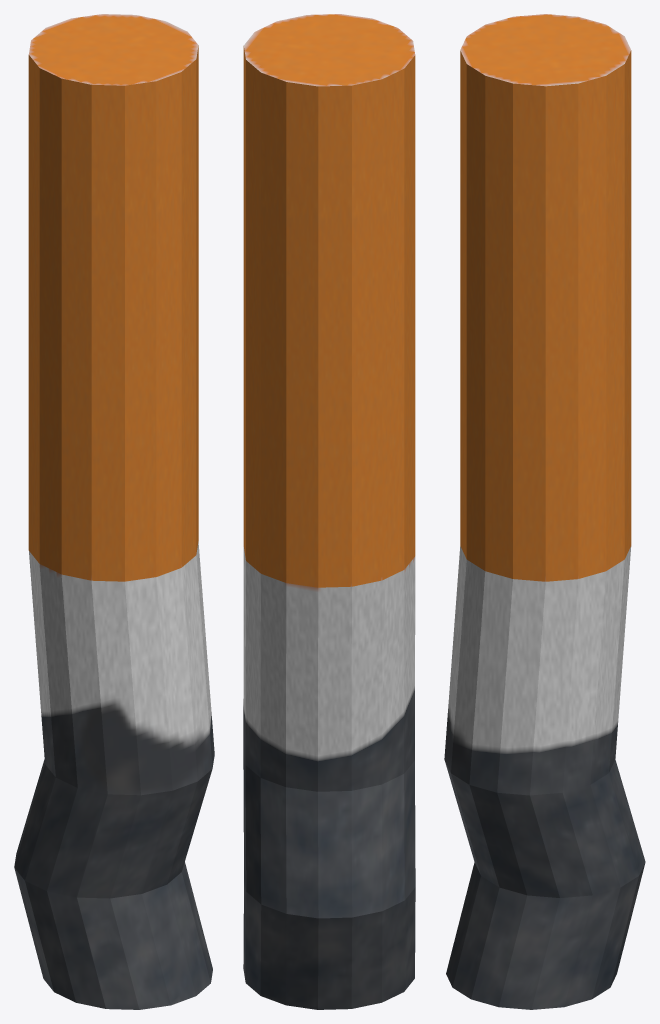
The model's file is MKU_cig_butt_fin.fbx.
The picture shows the model from 3 angles, left to right: view 1: azimuth 30°, elevation 25°; view 2: azimuth 150°, elevation 25°; view 3: azimuth 270°, elevation 25°; orthographic projection.
Visible parts, largest first — view 1: Cylinder; view 2: Cylinder; view 3: Cylinder.
Part boxes in pixels (x1=…): Cylinder: x1=14, y1=14, x2=214, y2=1009; Cylinder: x1=243, y1=14, x2=415, y2=1009; Cylinder: x1=444, y1=14, x2=645, y2=1009.
Size of the model in its own units: 32.08 by 172 by 34.11.
